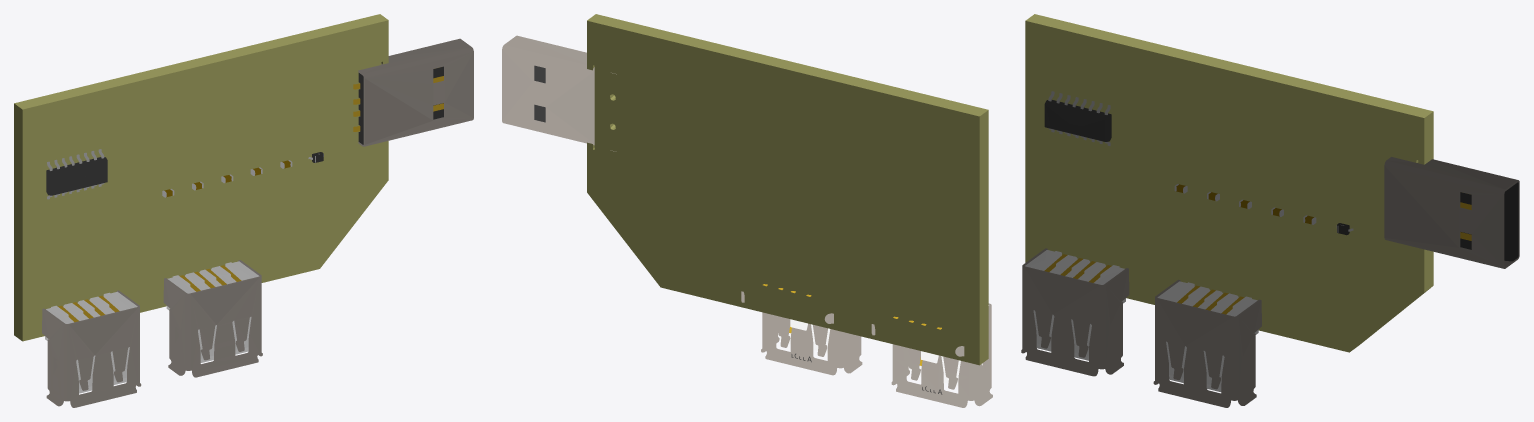
File: OBJ_PCB_AVI-HUB.obj
3 views of the same model, side by side, from view 1: azimuth 30°, elevation 25°; view 2: azimuth 150°, elevation 25°; view 3: azimuth 330°, elevation 25° (orthographic). The views are drawn at different scales.
Bounding box in the file's own units: 302 × 185 × 44.
